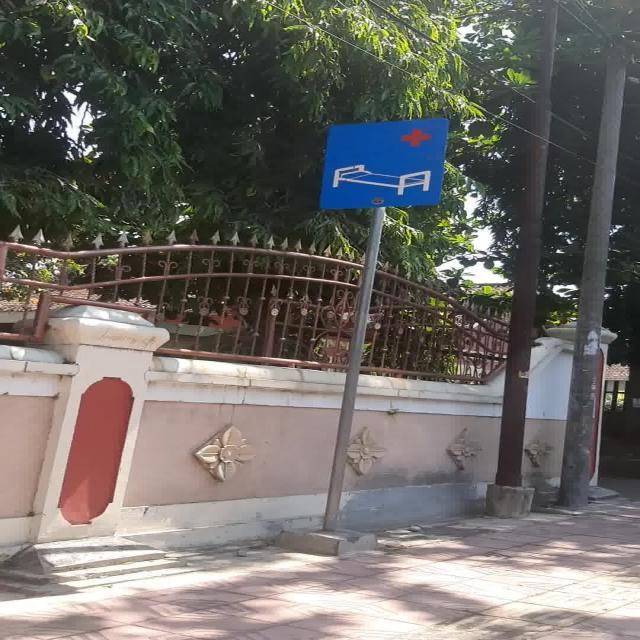Rumah Sakit: (320, 118, 448, 208)
